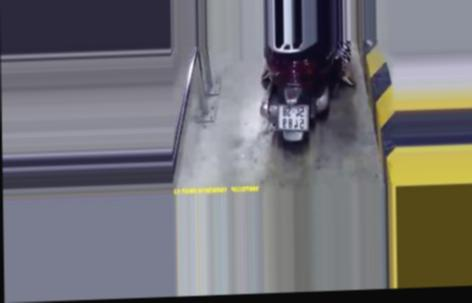License_Plate: (274, 104, 310, 130)
